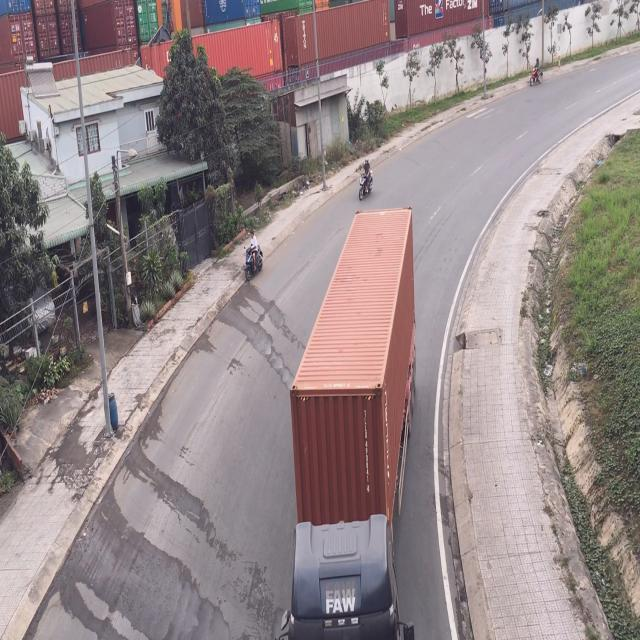motorbike: (244, 232, 263, 283), (358, 159, 374, 203), (528, 55, 545, 89)
truck: (284, 205, 414, 640)
